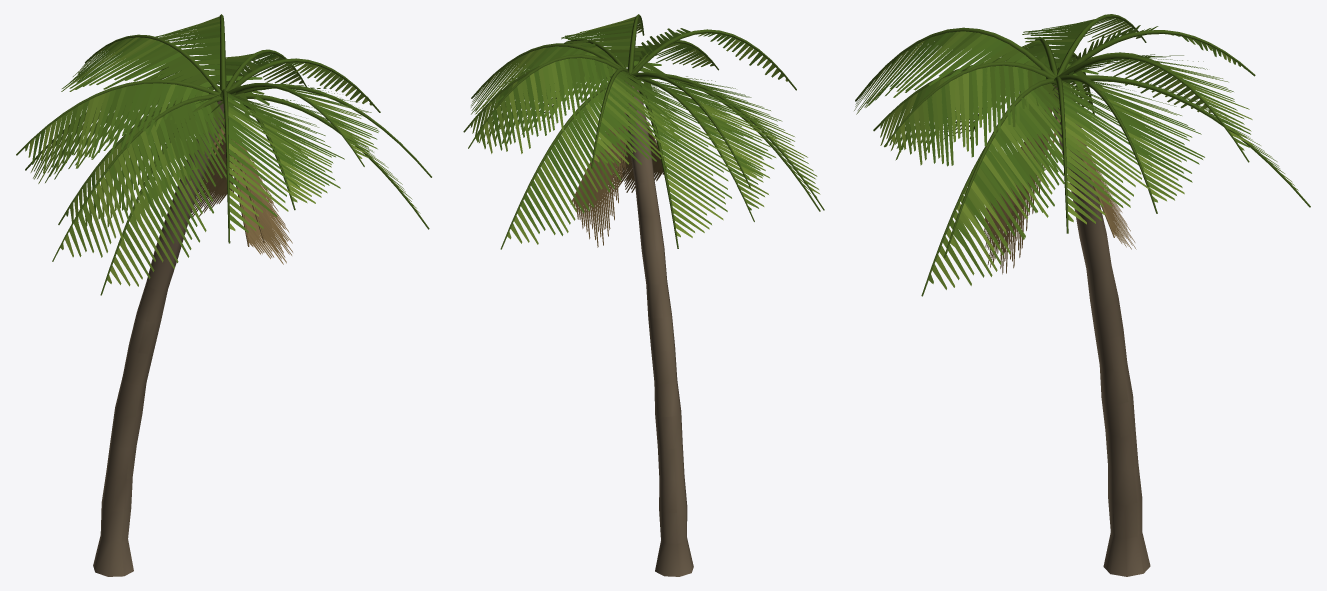
Rendered from PLN_Palm_Coconut.fbx.
3 views of the same model, side by side, from view 1: azimuth 30°, elevation 25°; view 2: azimuth 150°, elevation 25°; view 3: azimuth 270°, elevation 25° (orthographic). The views are drawn at different scales.
Visible parts, largest first — view 1: PLN_Palm_Coconut; view 2: PLN_Palm_Coconut; view 3: PLN_Palm_Coconut.
Boxes of the visible parts, x1,y1,x2,y2 form: PLN_Palm_Coconut: (16,14,431,576); PLN_Palm_Coconut: (463,14,824,576); PLN_Palm_Coconut: (854,14,1310,576).
Bounding box in the file's own units: 7.36 × 10.31 × 7.5.
